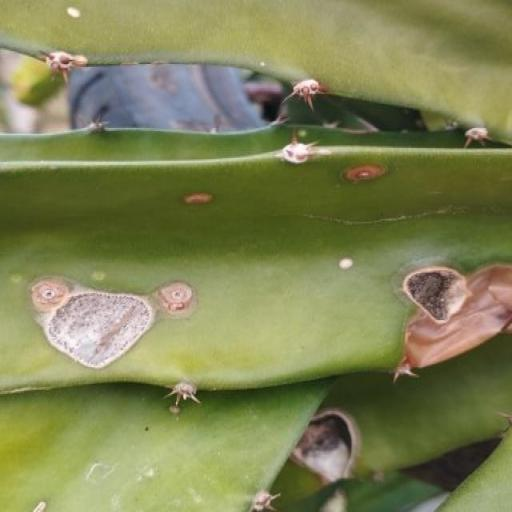stemcanker: (318, 234, 369, 302)
